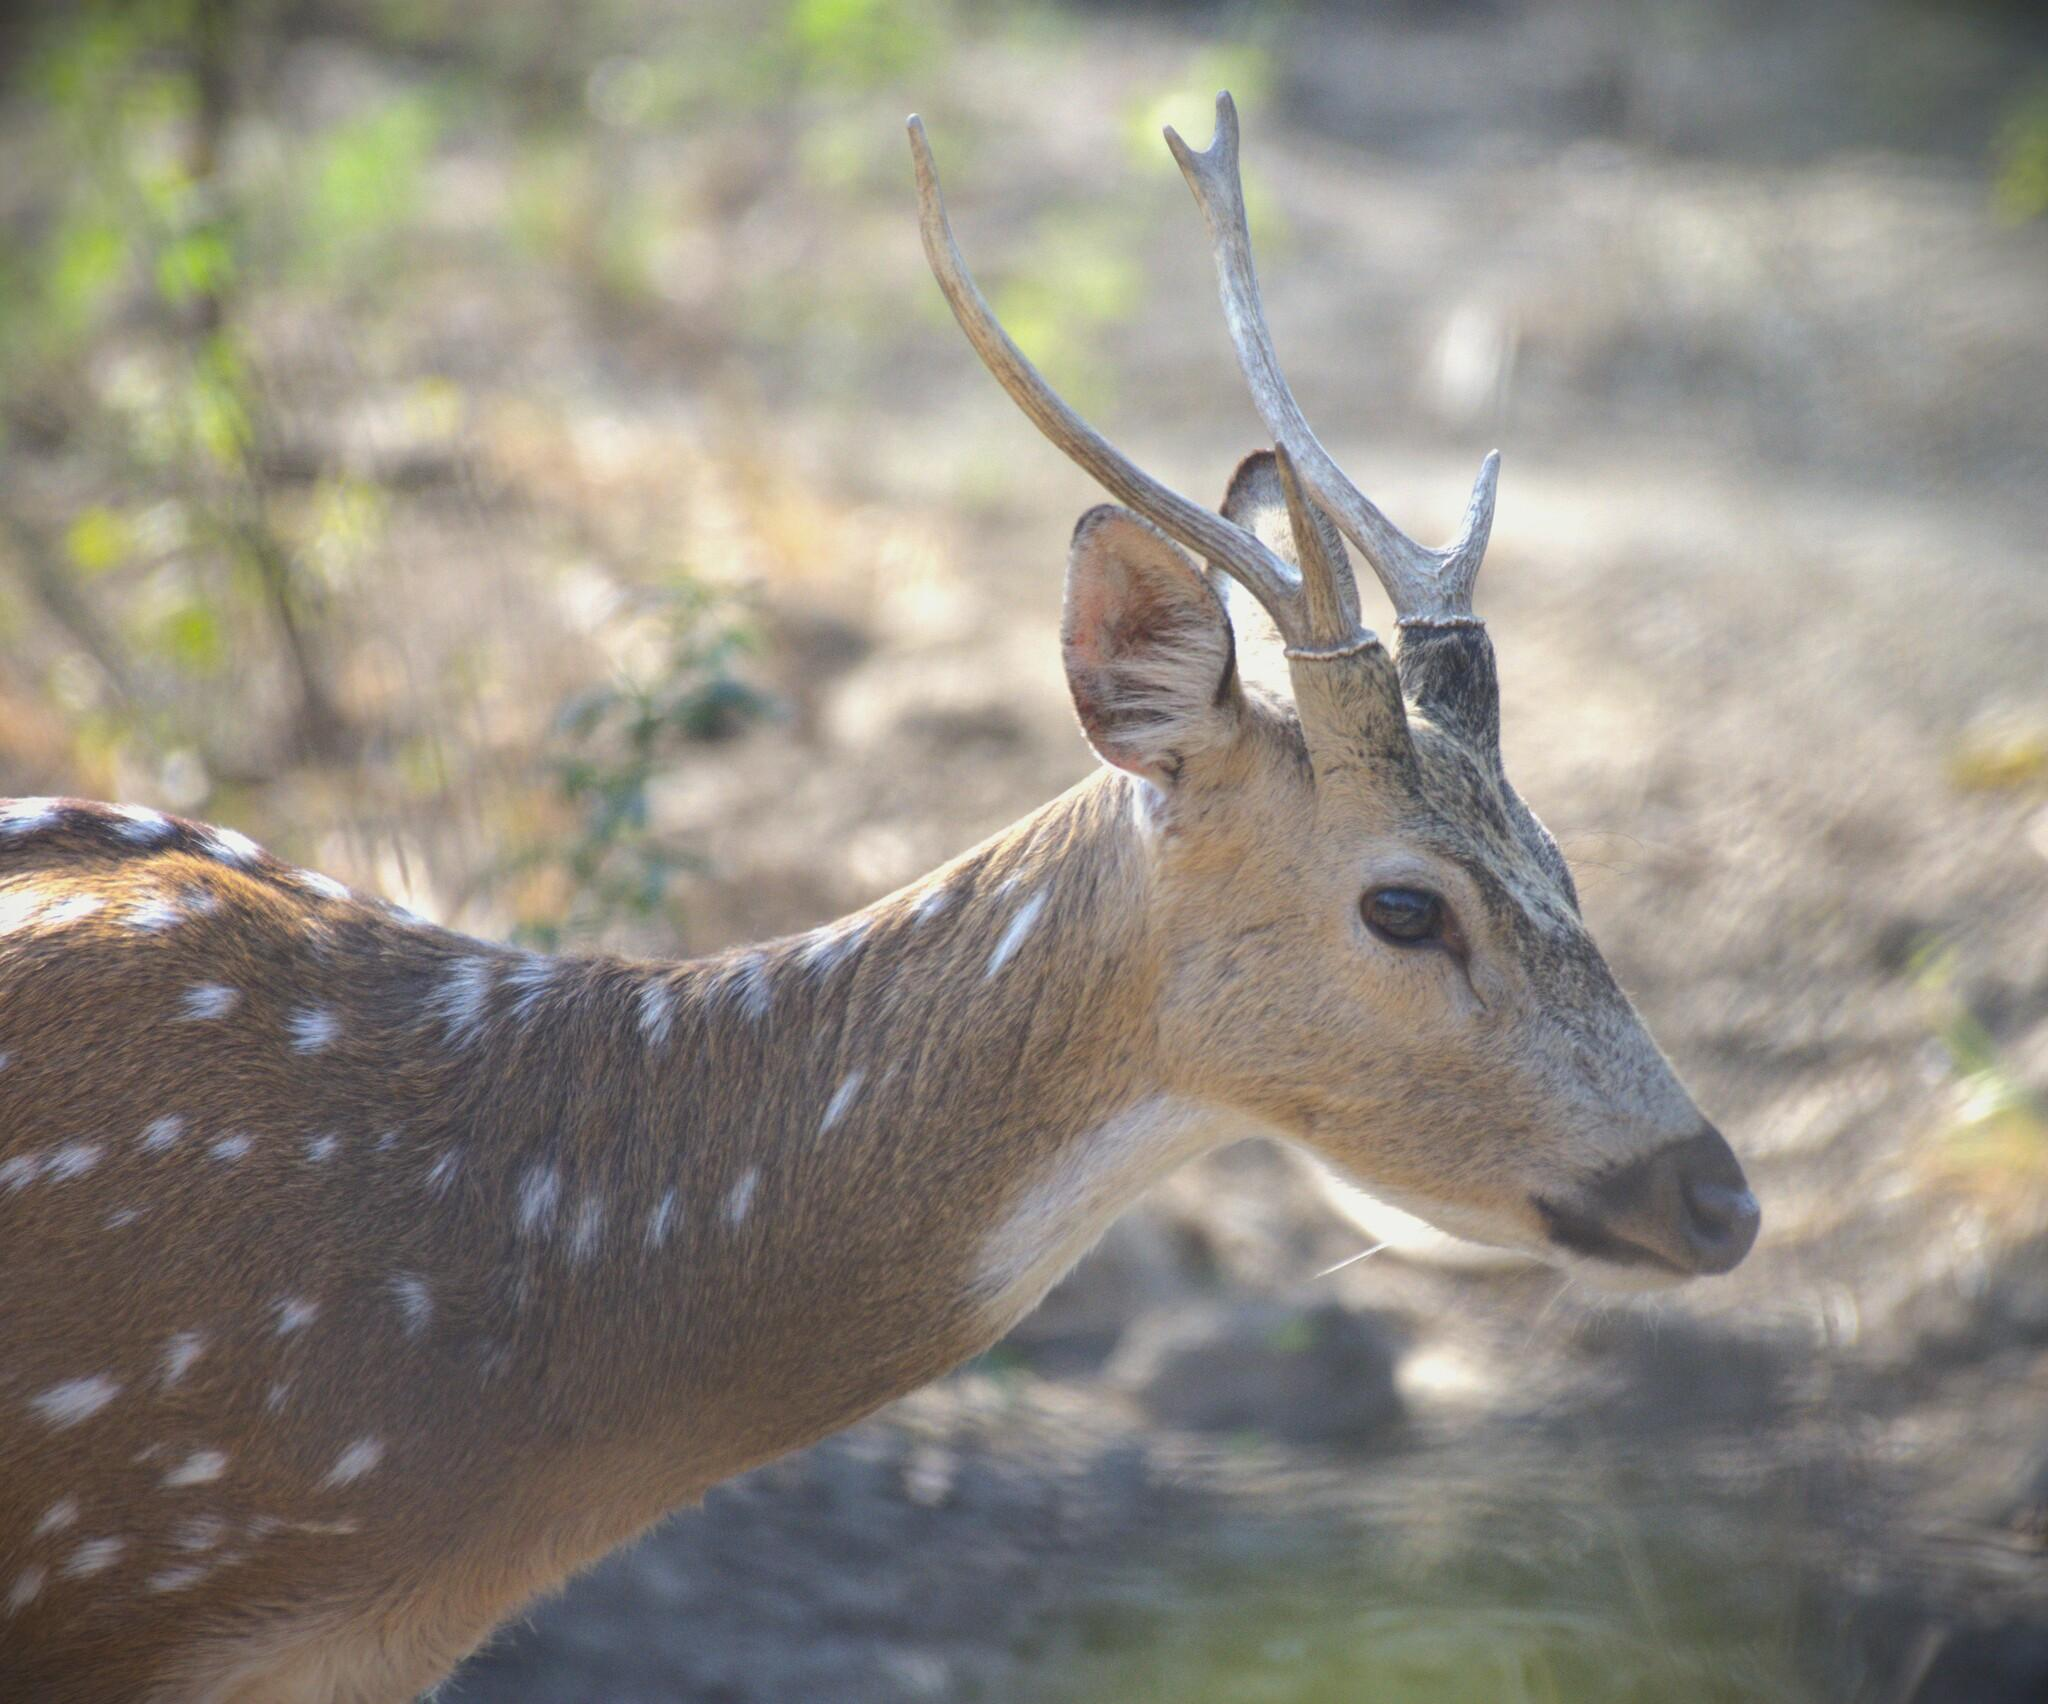Deer: (0, 94, 1759, 1699)
